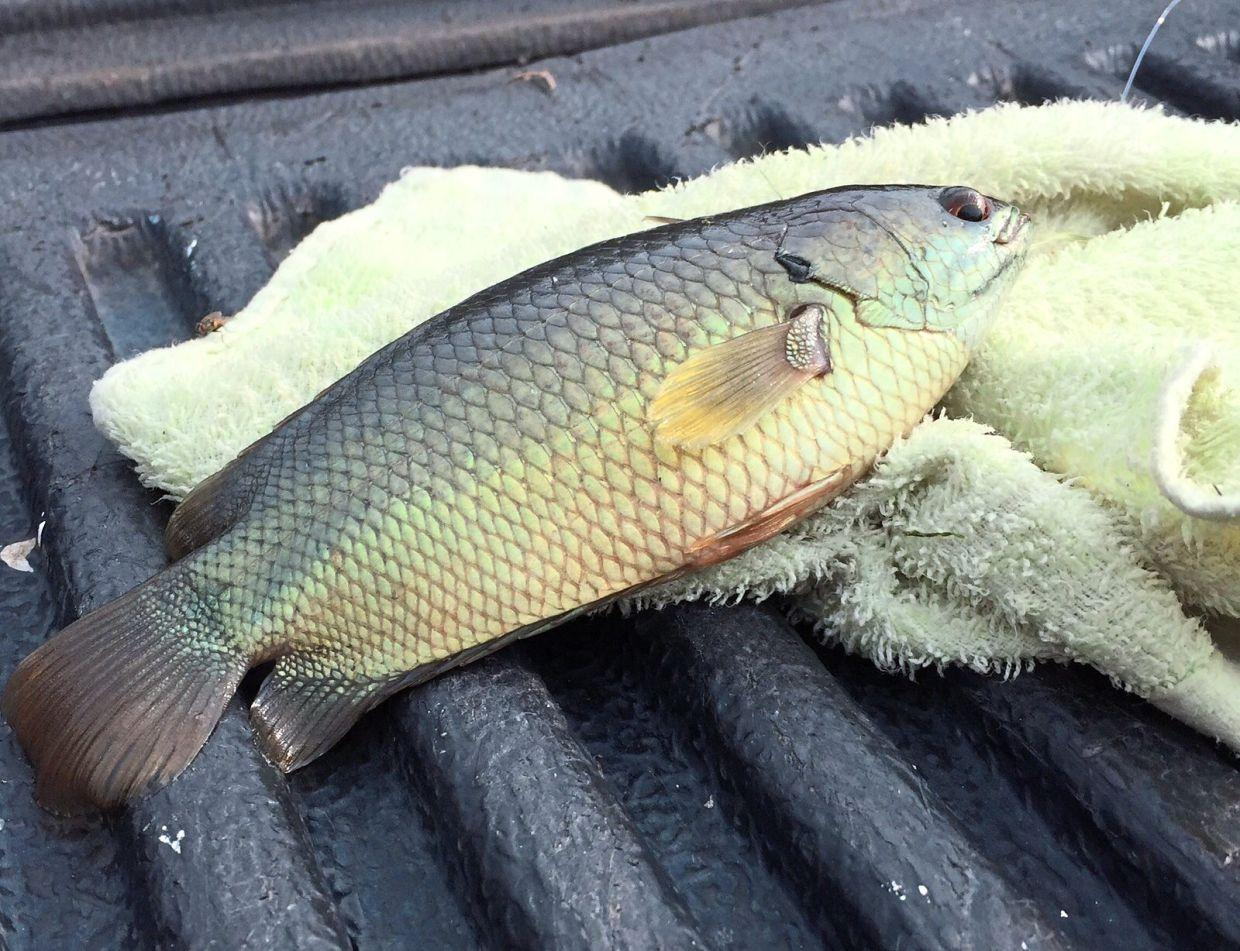Climbing Perch: (3, 172, 1033, 815)
